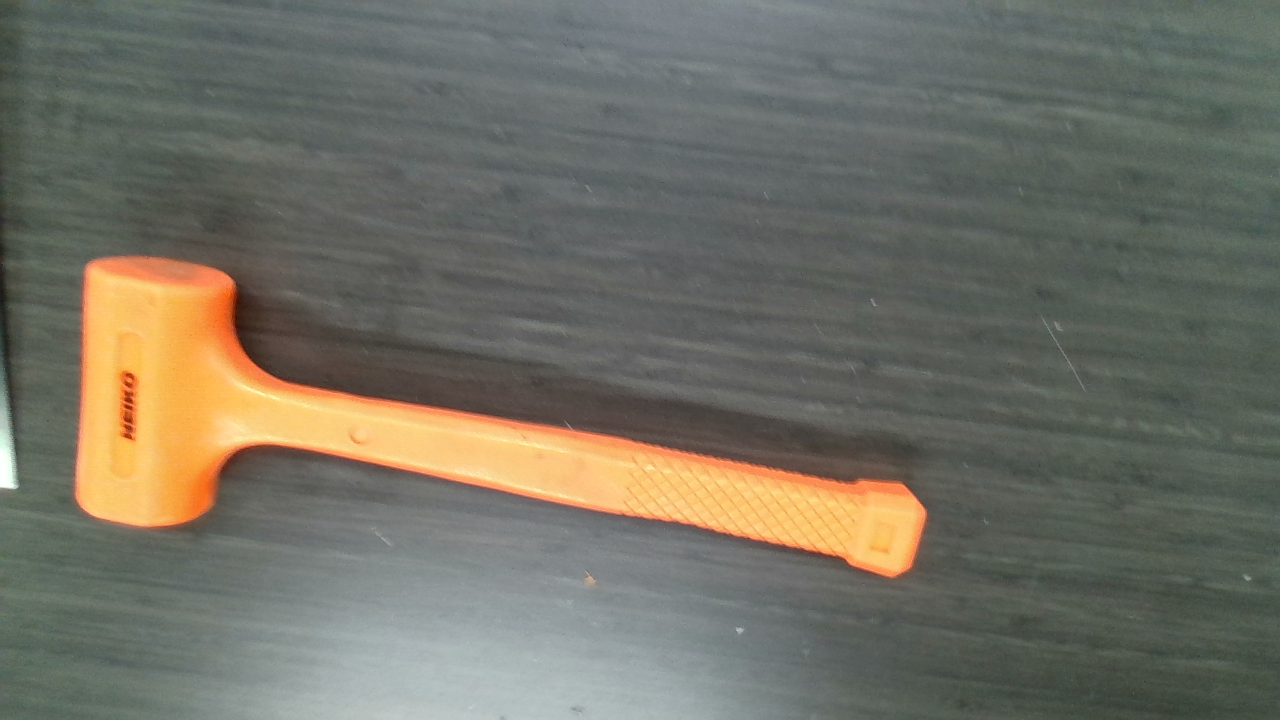Orange Hammer: (82, 253, 925, 575)
